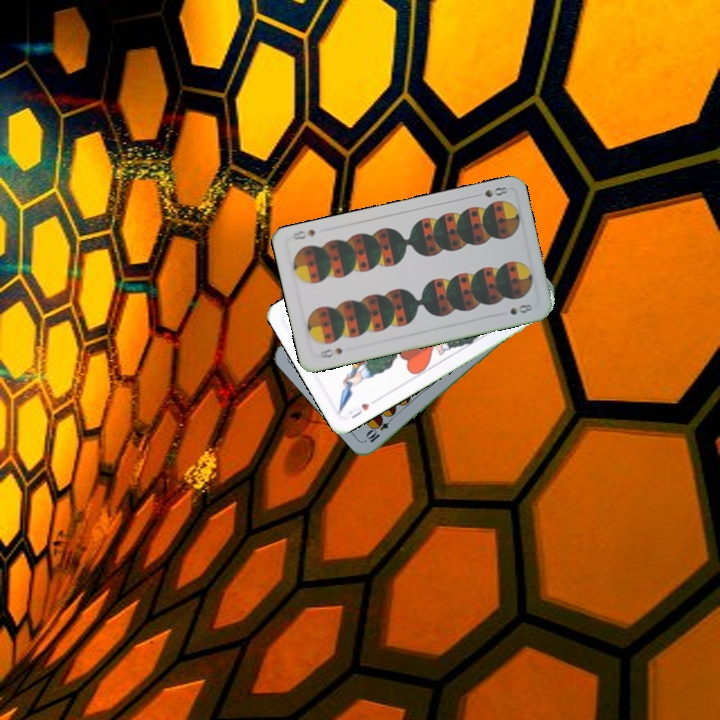E10: (362, 411, 397, 445)
HU: (344, 399, 372, 421)
S8: (470, 183, 510, 200), (315, 344, 345, 361)
